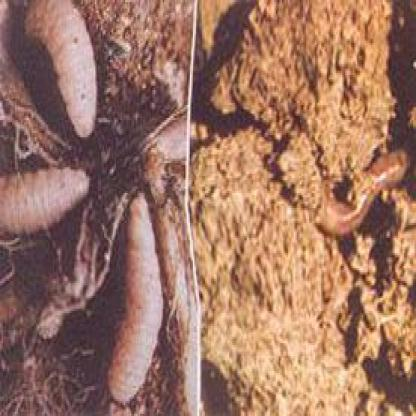whorl-maggot: (105, 198, 164, 406), (23, 0, 101, 138), (0, 167, 95, 235)
